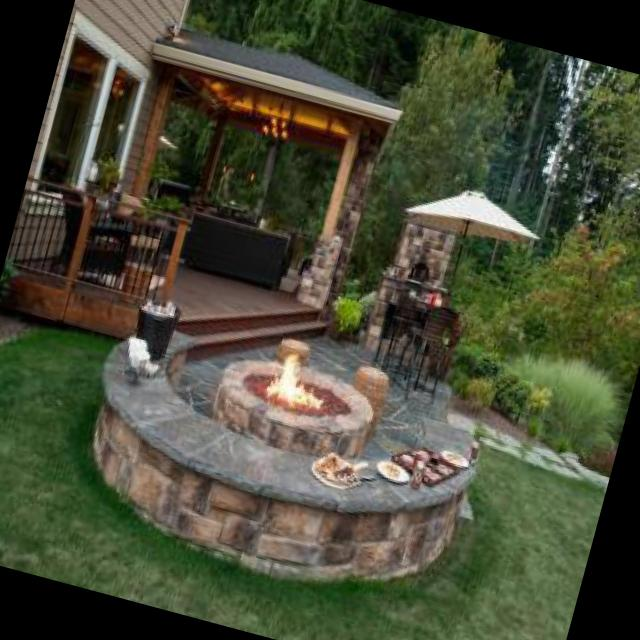fire: (265, 345, 332, 416)
